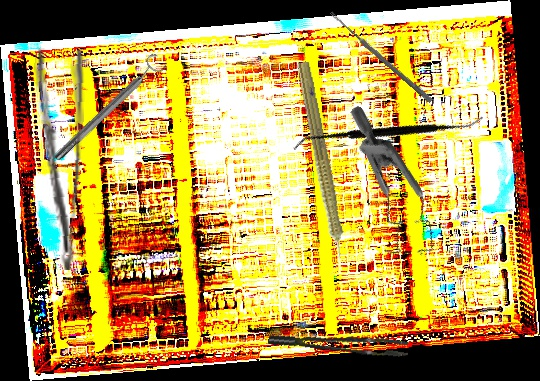Dressing Forceps: (23, 47, 88, 271)
Fixation Ring: (47, 50, 170, 167)
Handpiece: (288, 60, 354, 276)
Spatula Surgical: (292, 43, 485, 224)
Speculum: (296, 104, 476, 274)
Surgical Spoon: (328, 10, 434, 104)
Tissue Forceps: (267, 315, 411, 371)
